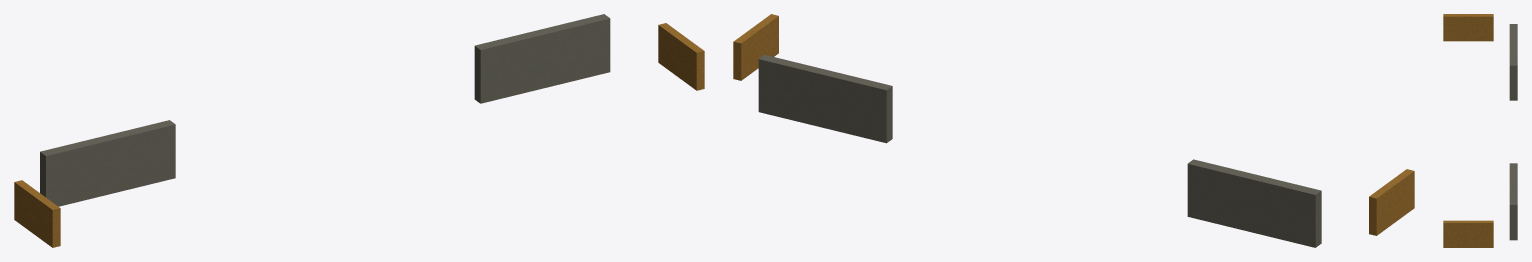
The model's file is headlamps.glb.
3 views of the same model, side by side, from view 1: azimuth 30°, elevation 25°; view 2: azimuth 150°, elevation 25°; view 3: azimuth 270°, elevation 25° (orthographic). The views are drawn at different scales.
Visible parts, largest first — view 1: headlamps; view 2: headlamps; view 3: headlamps.
Boxes of the visible parts, x1,y1,x2,y2 form: headlamps: (14,14,704,247); headlamps: (733,14,1414,247); headlamps: (1443,14,1517,247).
Size of the model in its own units: 2.16 by 0.17 by 0.3245.
1 material, 1 textured.
